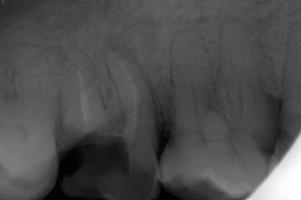Furcation Involvement: (103, 31, 137, 60)
